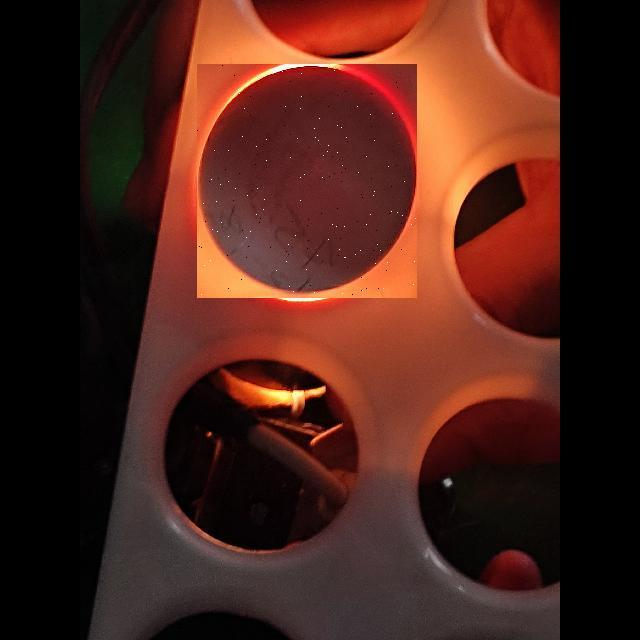A - Good: (196, 59, 417, 299)
